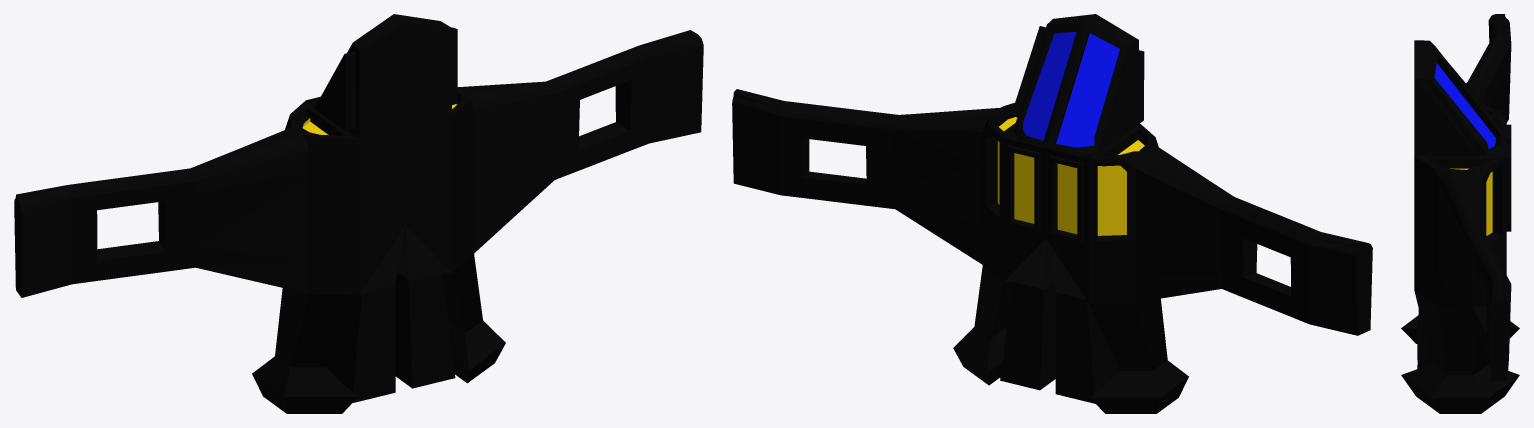
The model's file is MiniBoss_2.fbx.
3 views of the same model, side by side, from view 1: azimuth 30°, elevation 25°; view 2: azimuth 150°, elevation 25°; view 3: azimuth 270°, elevation 25° (orthographic). The views are drawn at different scales.
Visible parts, largest first — view 1: Cubo001; view 2: Cubo001; view 3: Cubo001.
Part boxes in pixels (x1,y1,x2,y2): Cubo001: [14, 14, 703, 413]; Cubo001: [732, 14, 1372, 413]; Cubo001: [1401, 14, 1519, 413].
Bounding box in the file's own units: 242 × 128 × 42.43.
